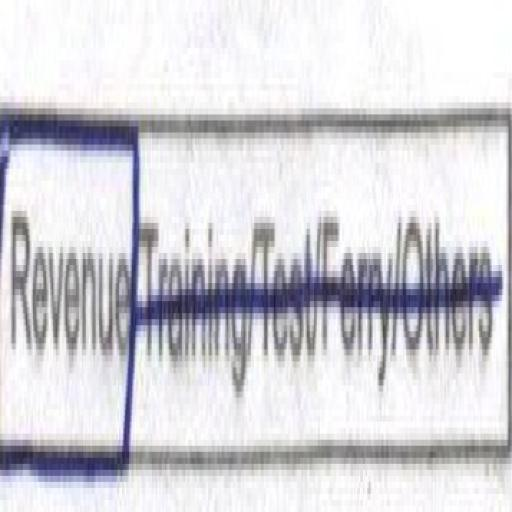check: (0, 62, 144, 512)
